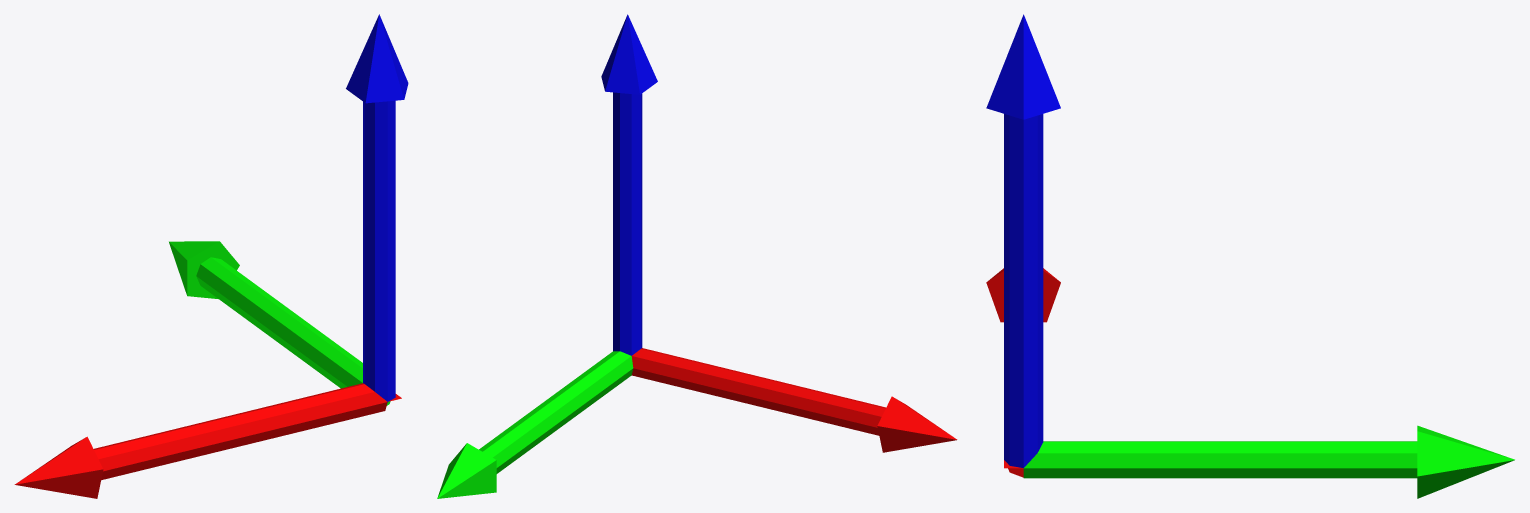
File: ortho_fbx.FBX
The picture shows the model from 3 angles, left to right: view 1: azimuth 30°, elevation 25°; view 2: azimuth 150°, elevation 25°; view 3: azimuth 270°, elevation 25°; orthographic projection. The views are drawn at different scales.
Visible parts, largest first — view 1: ortho; view 2: ortho; view 3: ortho.
Boxes of the visible parts, x1,y1,x2,y2 form: ortho: (14, 14, 408, 498); ortho: (437, 14, 957, 498); ortho: (986, 14, 1514, 498).
Bounding box in the file's own units: 27 × 26.9 × 26.9.
